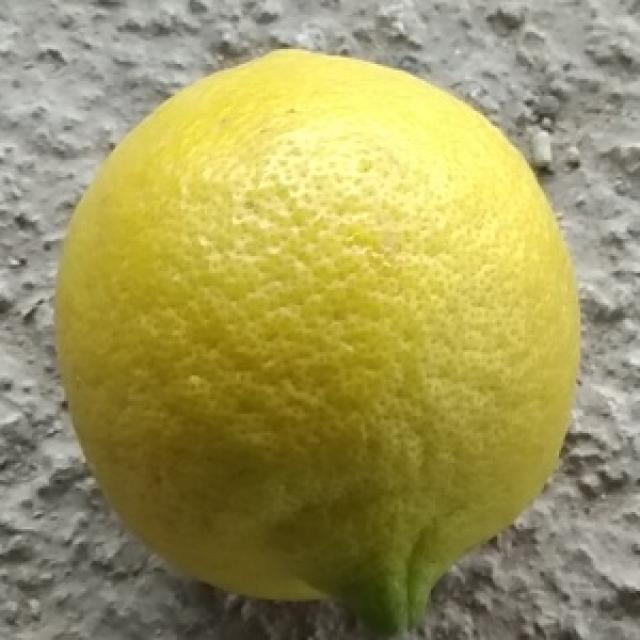Ripe: (51, 38, 585, 640)
